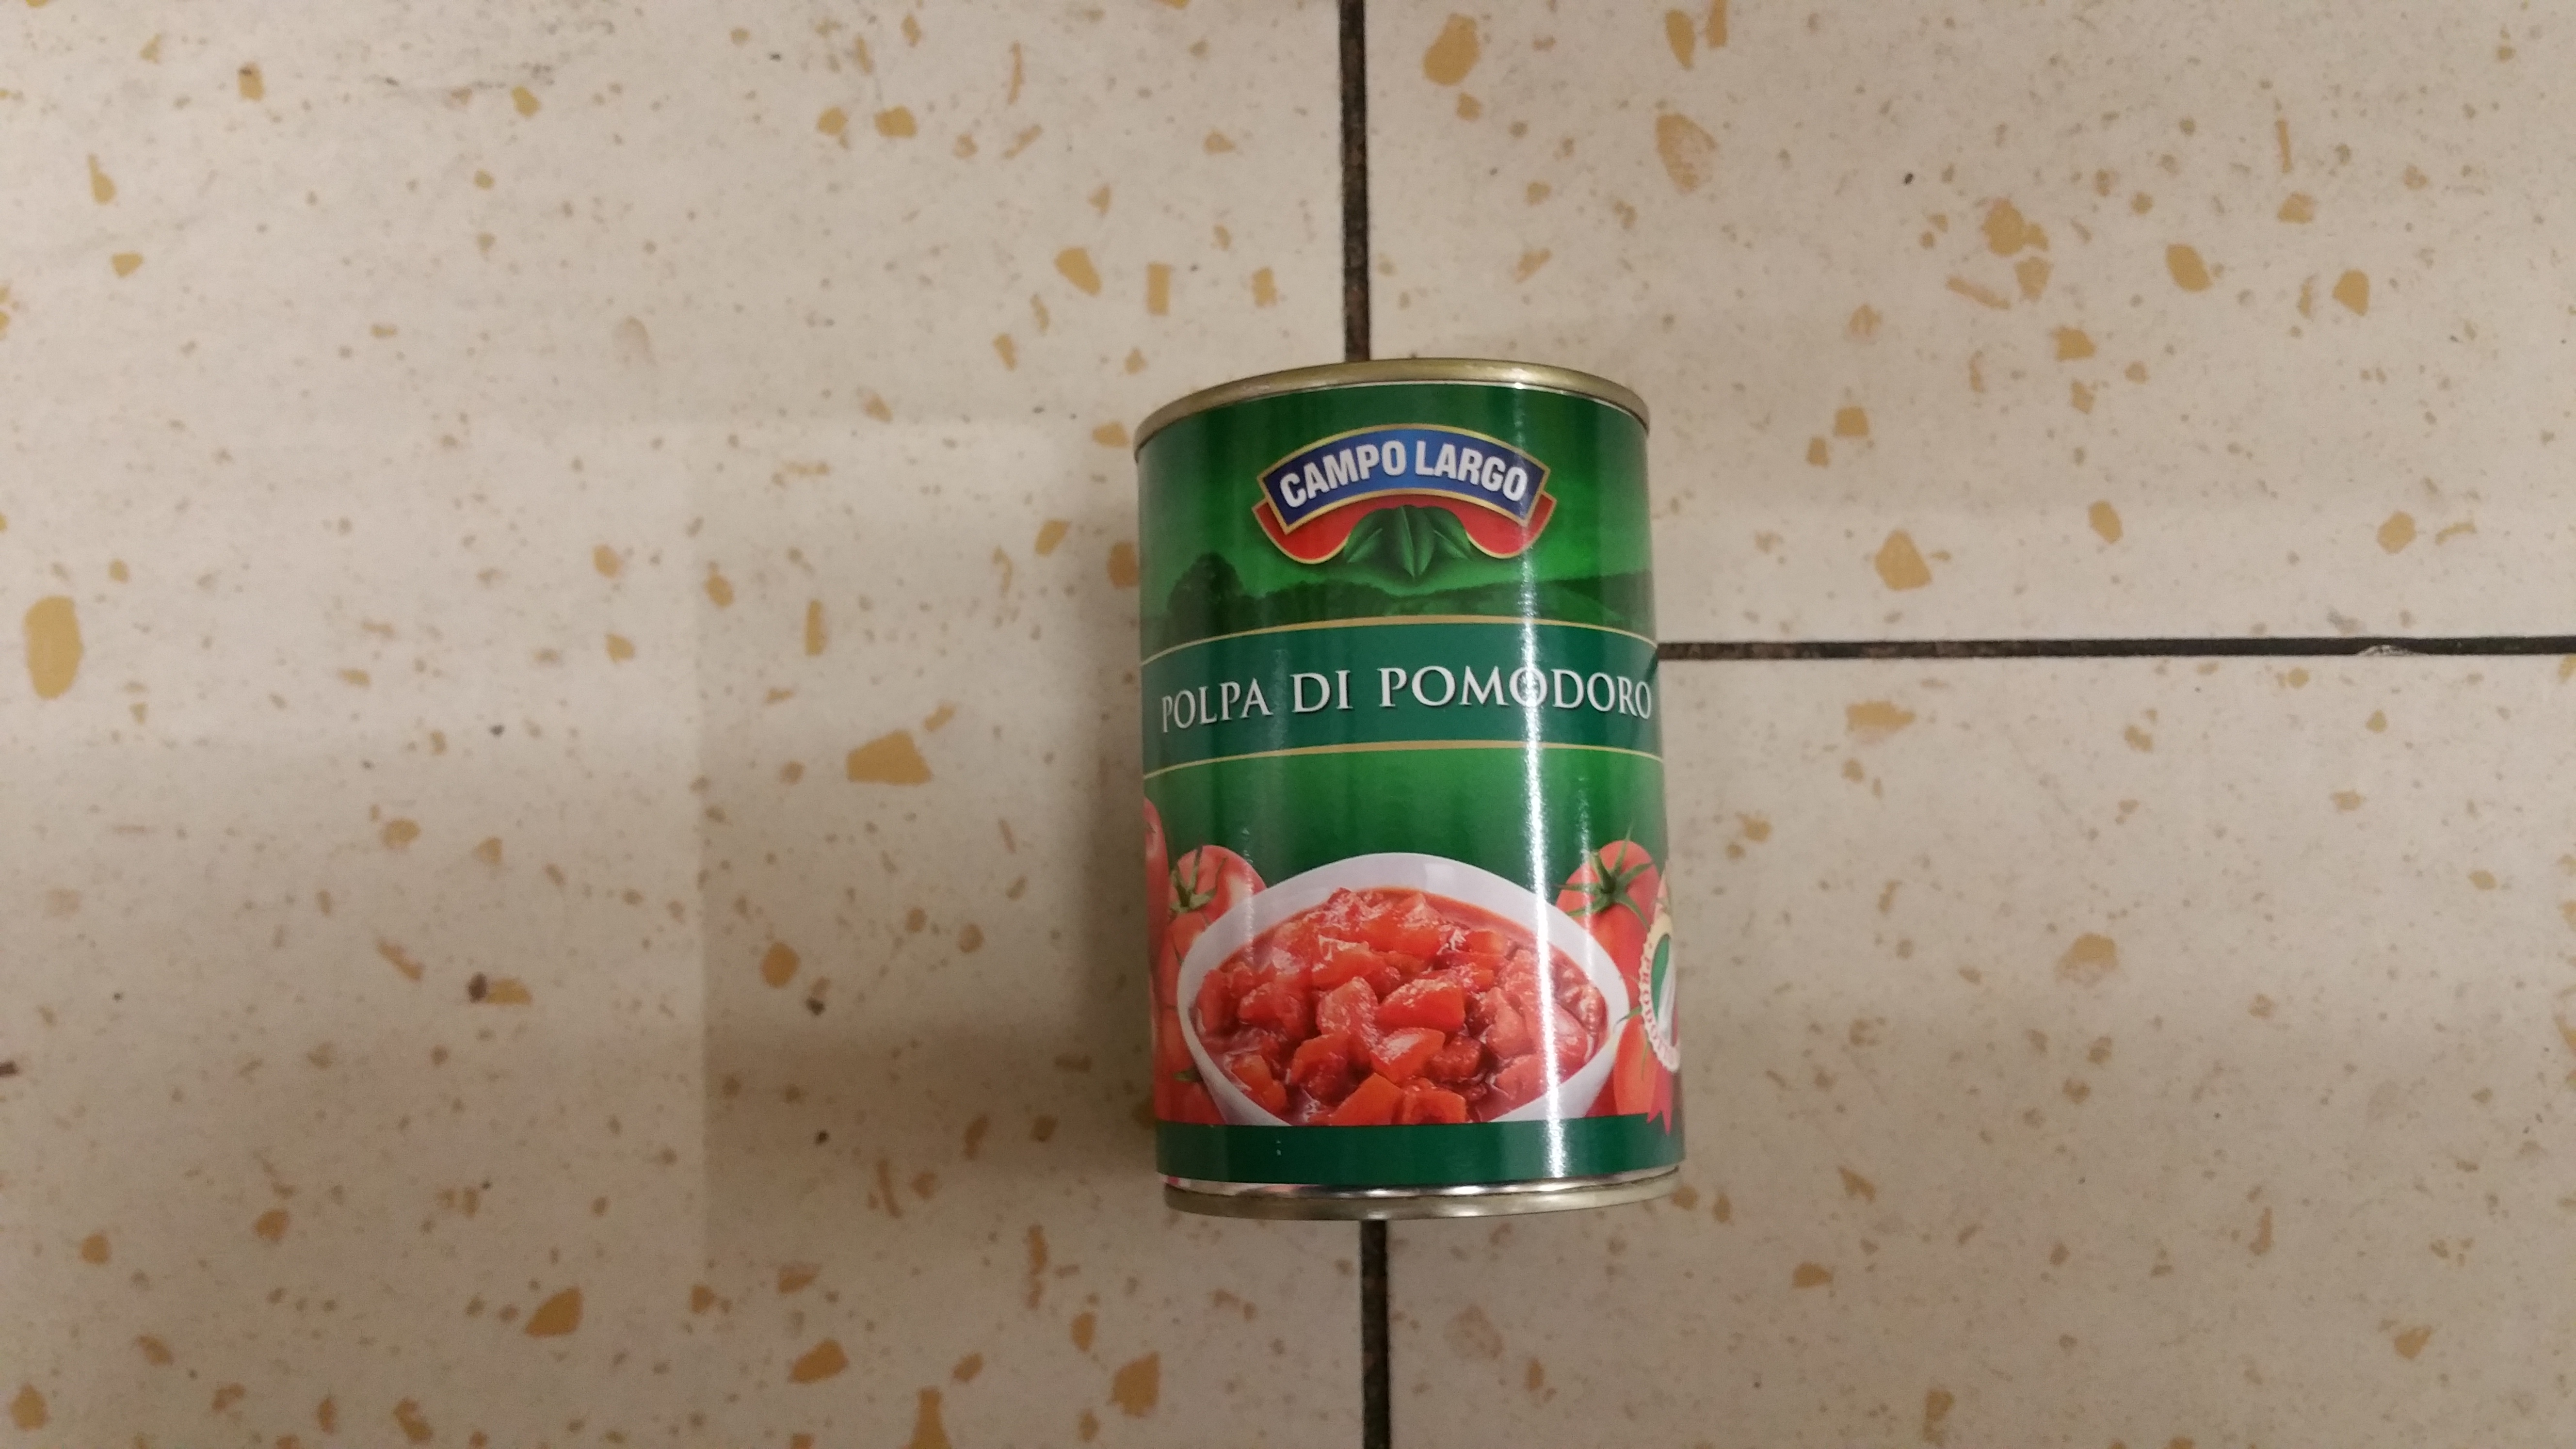metal: (1040, 327, 1723, 1260)
